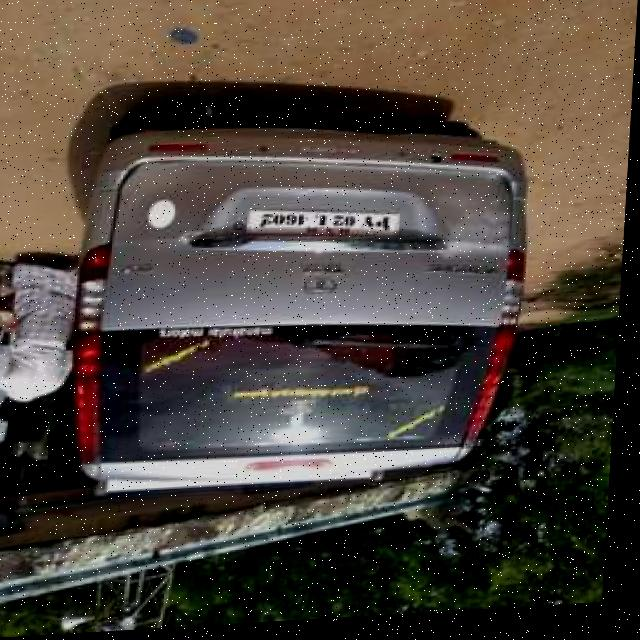plate: (247, 206, 404, 246)
